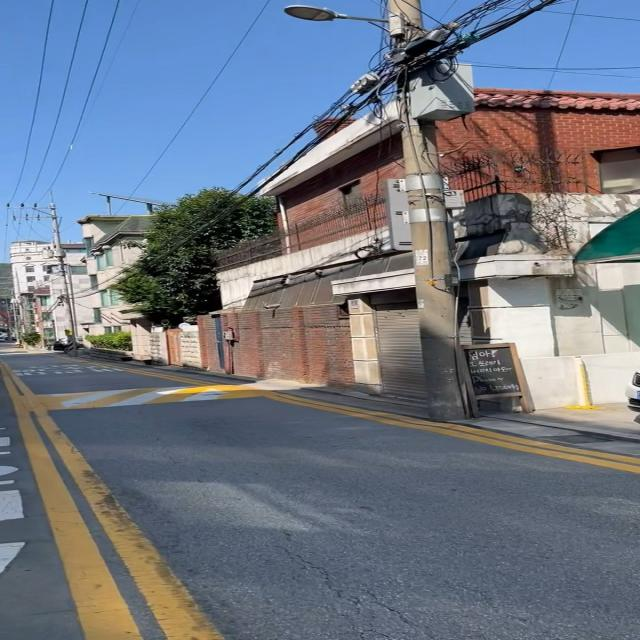building: (196, 86, 638, 418), (8, 239, 88, 347)
car: (52, 337, 84, 351)
